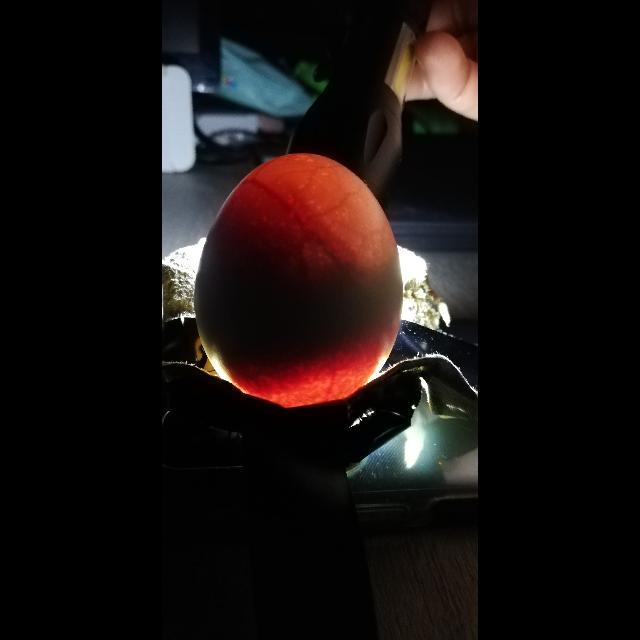Fertile: (194, 147, 406, 405)
